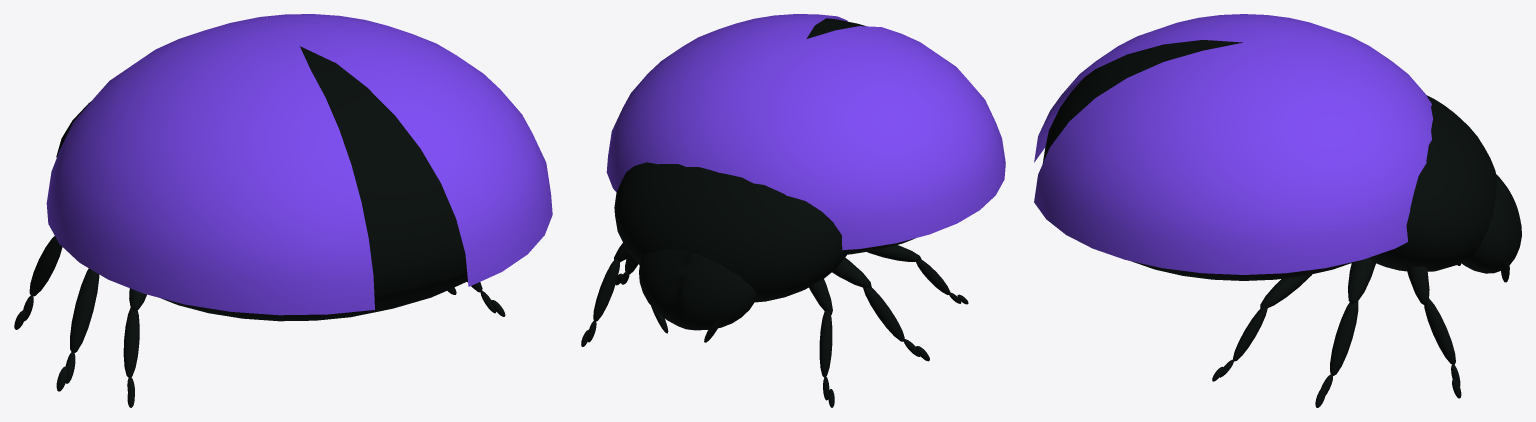
File: Purple_bug.fbx
3 renders of one model, left to right at view 1: azimuth 30°, elevation 25°; view 2: azimuth 150°, elevation 25°; view 3: azimuth 270°, elevation 25°, orthographic. The views are drawn at different scales.
Parts seen in each view (by area): view 1: Sphere; view 2: Sphere; view 3: Sphere.
Boxes of the visible parts, x1,y1,x2,y2 form: Sphere: (14, 14, 552, 407); Sphere: (581, 14, 1005, 407); Sphere: (1034, 14, 1521, 407).
Size of the model in its own units: 176 by 129 by 196.
